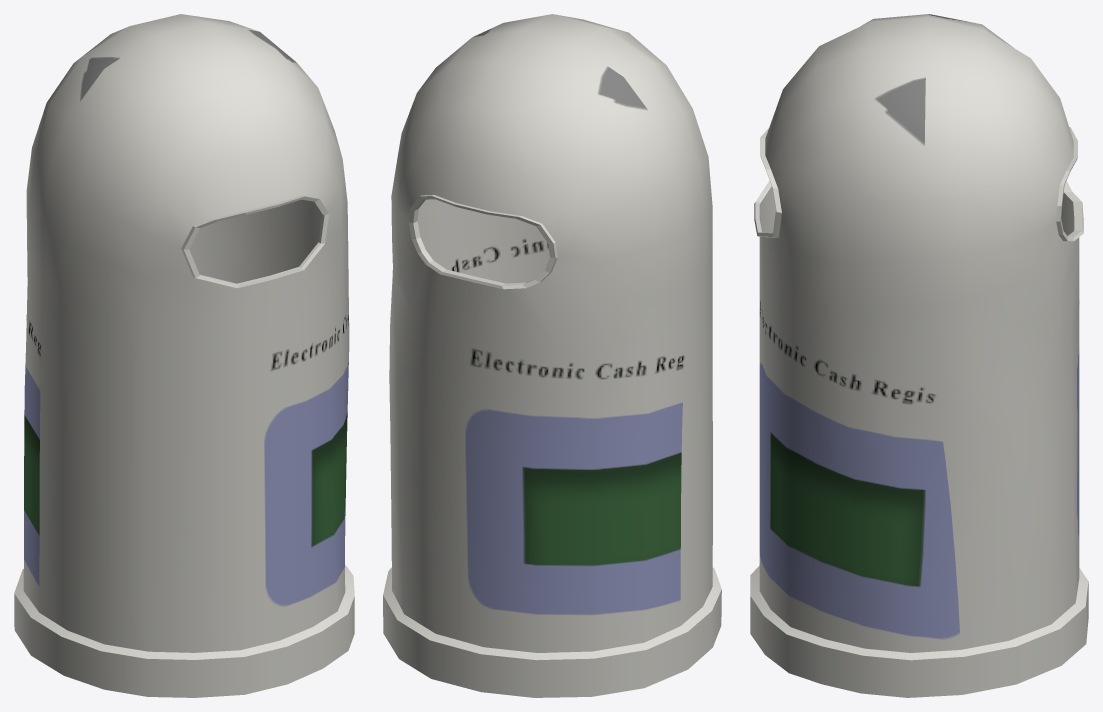
File: Bin.fbx
3 views of the same model, side by side, from view 1: azimuth 30°, elevation 25°; view 2: azimuth 150°, elevation 25°; view 3: azimuth 270°, elevation 25° (orthographic).
Visible parts, largest first — view 1: Bin; view 2: Bin; view 3: Bin.
Part boxes in pixels (box(x1,y1,x2,y2)): Bin: box(14, 14, 354, 697); Bin: box(383, 14, 721, 697); Bin: box(750, 14, 1088, 697).
Bounding box in the file's own units: 3.27 × 6.31 × 3.25.
